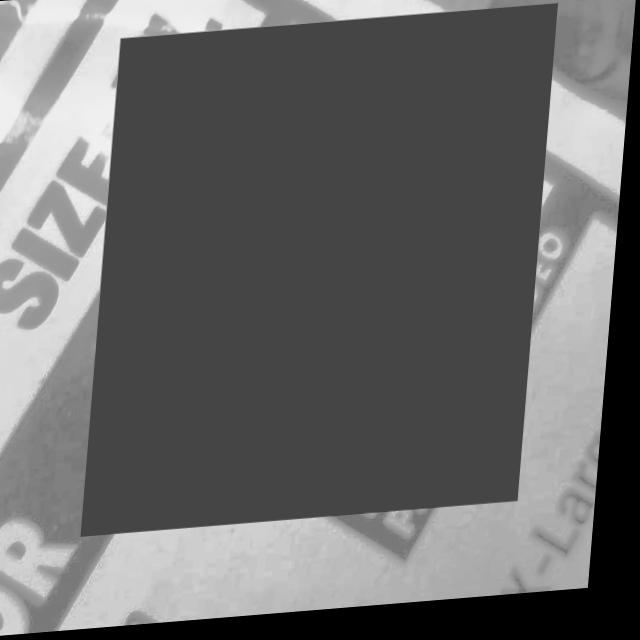qr_code: (90, 11, 559, 537)
